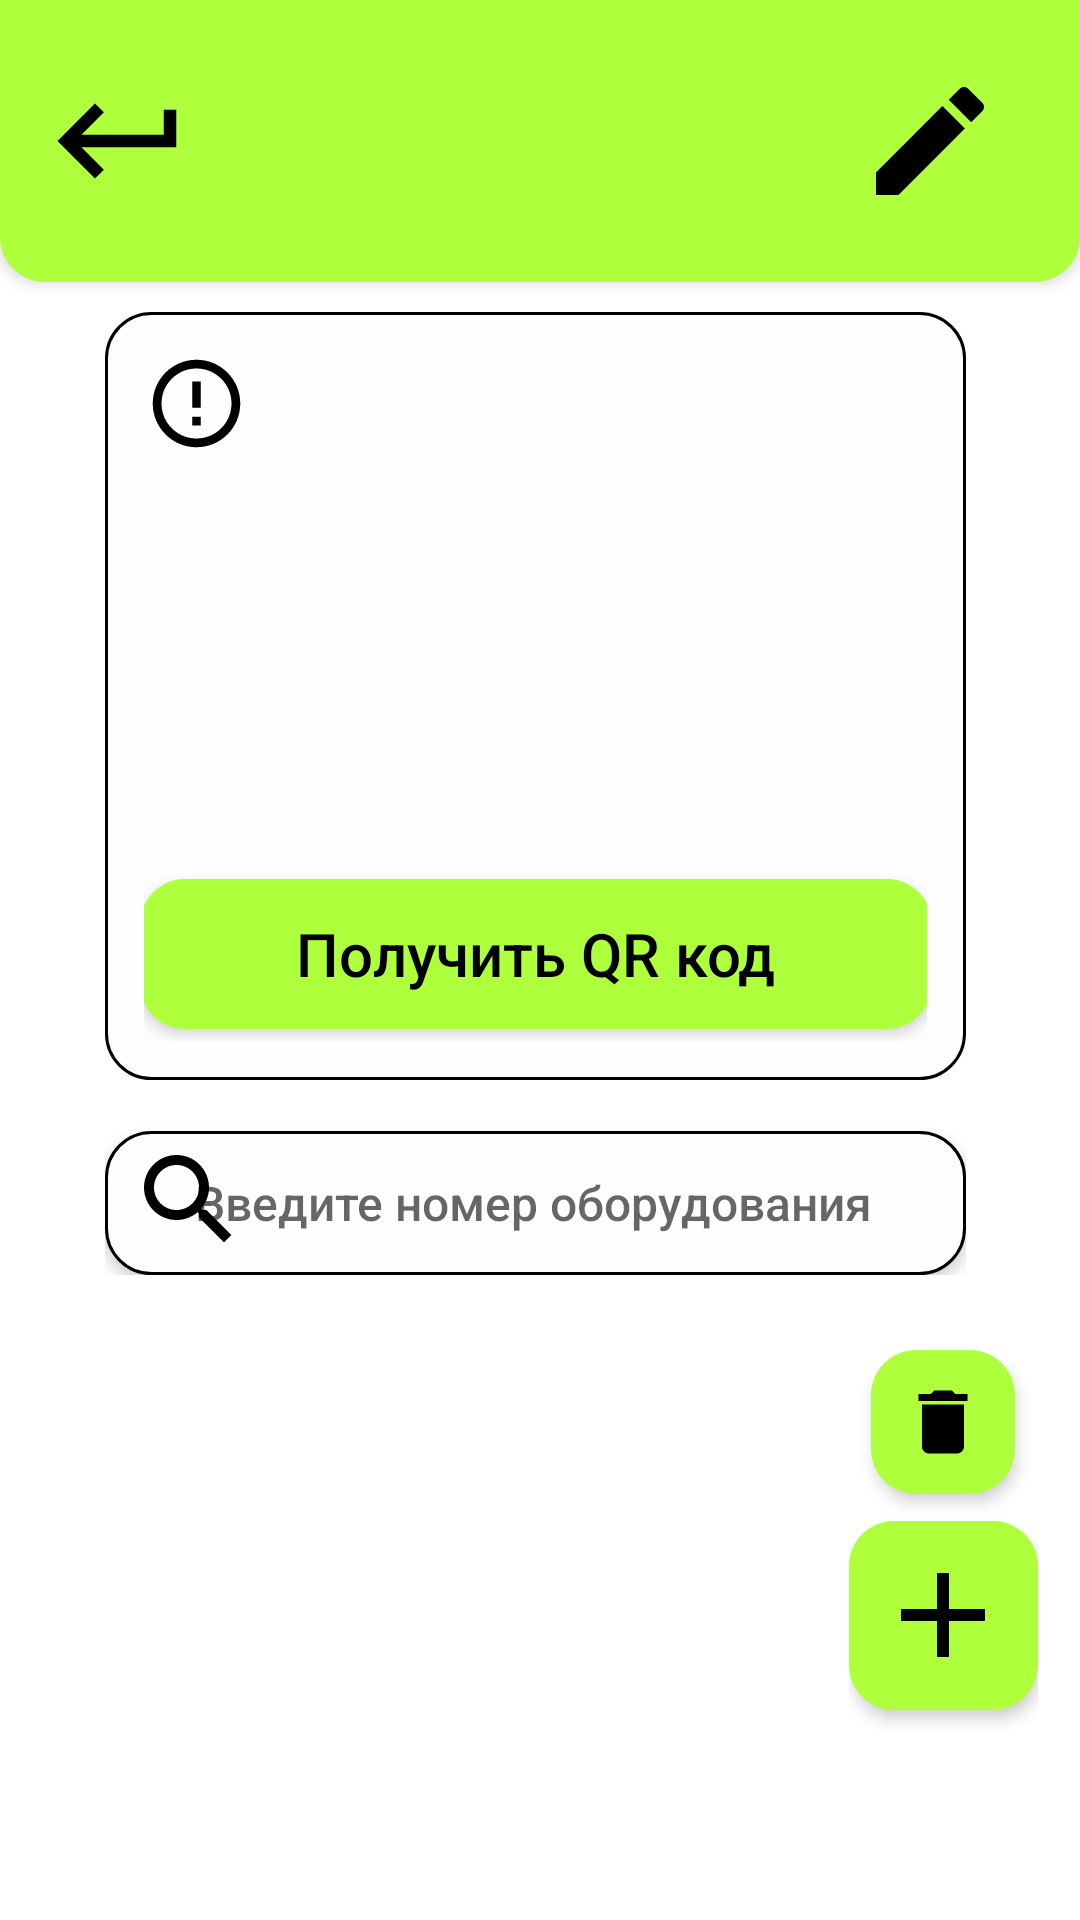

Icon bounding boxes for this 1080 x 1920 phone screenshot, format (x1, y1, x2, y2):
Закрепление оборудования: (901, 1573, 985, 1657)
иконка предупреждения: (152, 359, 241, 448)
Иконка редактирования: (876, 87, 984, 195)
кнопка возврата: (57, 103, 177, 179)
Открепить от кабинета: (918, 1390, 968, 1454)
Поиск: (144, 1155, 249, 1242)
